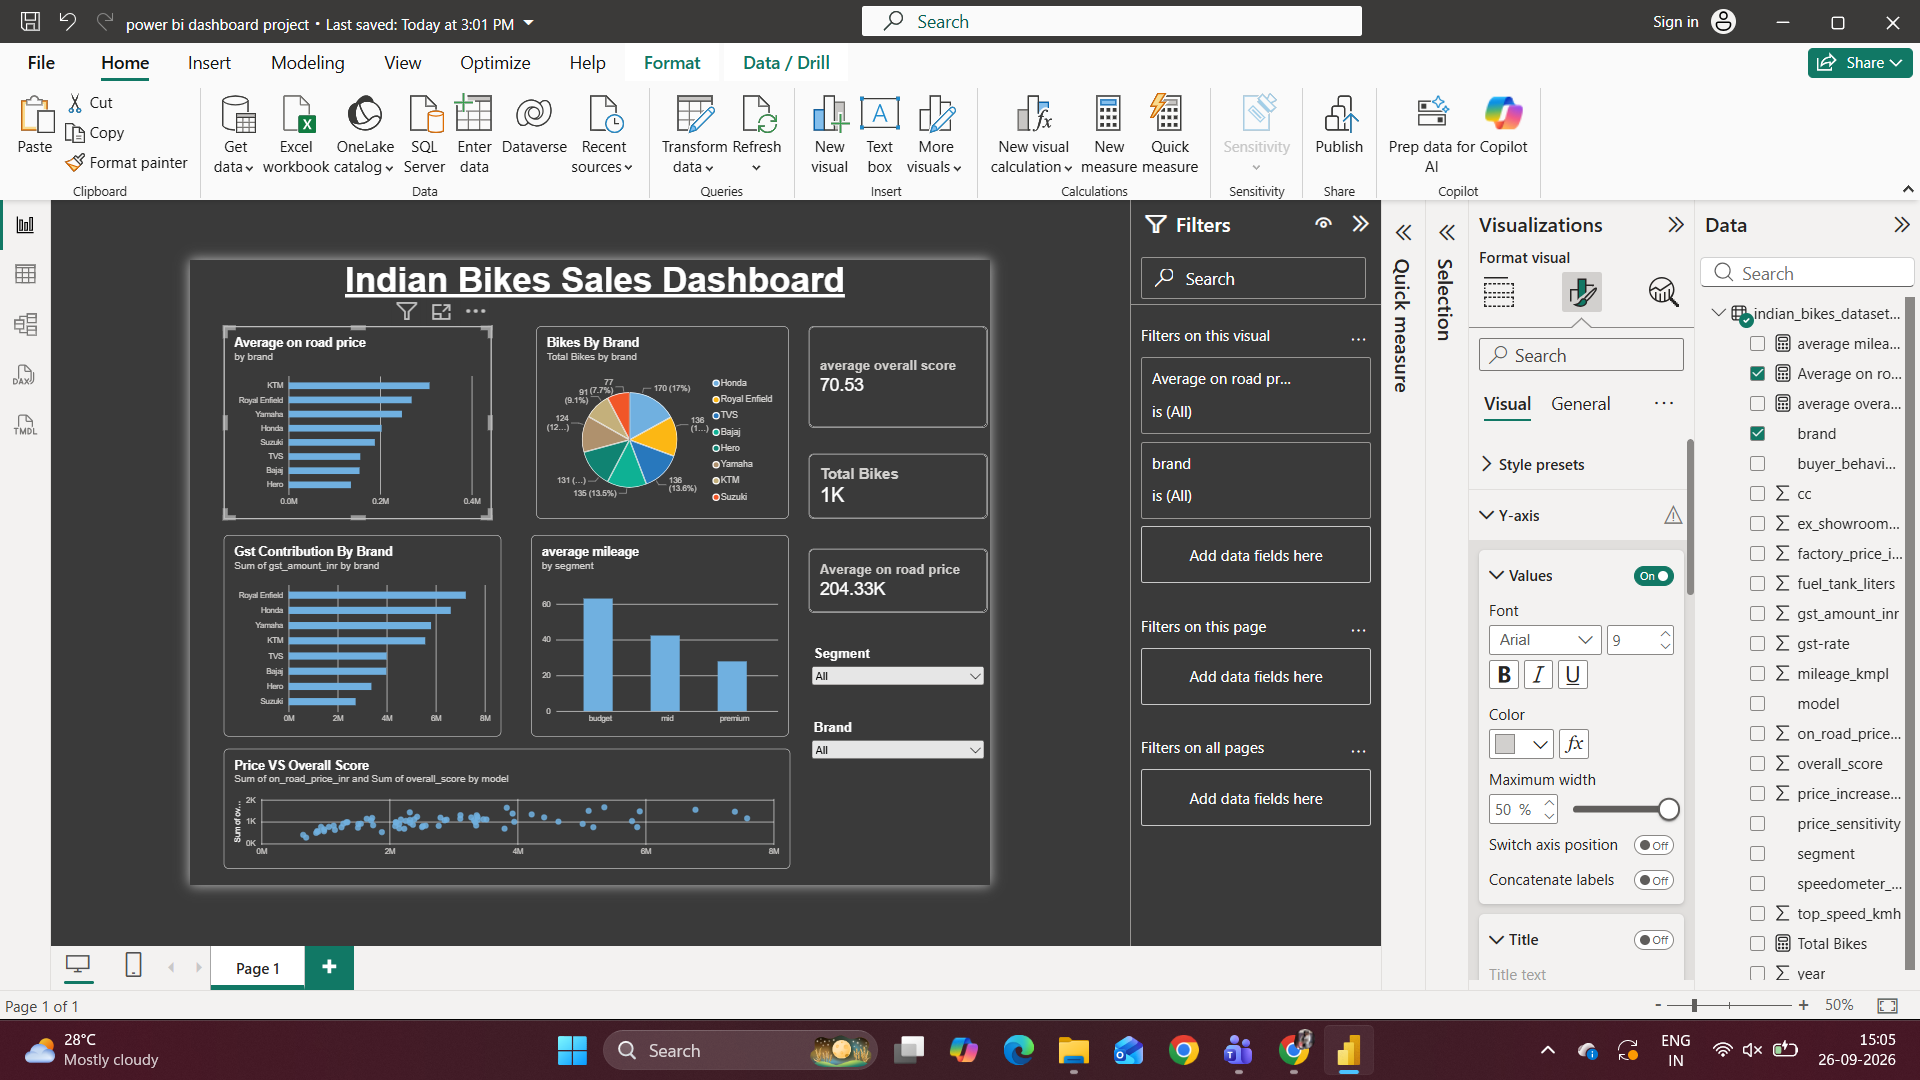

What the dashboard file says about the page in this screenshot:
{"tool":"powerbi","page":{"name":"Page 1","canvas":[1280,1000],"ordinal":0},"visuals":[{"type":"cardVisual","fields":{"Data":["indian_bikes_dataset_1000 (2).Total Bikes"]},"box":[990,310,286,104],"z":0},{"type":"cardVisual","fields":{"Data":["indian_bikes_dataset_1000 (2).Average on road price"]},"box":[990,462,286,102],"z":1000},{"type":"clusteredBarChart","fields":{"Category":["indian_bikes_dataset_1000 (2).brand"],"Y":["indian_bikes_dataset_1000 (2).Average on road price"]},"box":[54,106,428,308],"z":2000},{"type":"pieChart","title":"Bikes By Brand","fields":{"Category":["indian_bikes_dataset_1000 (2).brand"],"Y":["indian_bikes_dataset_1000 (2).Total Bikes"]},"box":[554,106,404,308],"z":3000},{"type":"slicer","fields":{"Values":["indian_bikes_dataset_1000 (2).brand"]},"box":[990,736,286,92],"z":4000},{"type":"textbox","box":[248,0,3172,122],"z":5000},{"type":"scatterChart","title":"Price VS Overall Score","fields":{"Category":["indian_bikes_dataset_1000 (2).model"],"X":["Sum(indian_bikes_dataset_1000 (2).on_road_price_inr)"],"Y":["Sum(indian_bikes_dataset_1000 (2).overall_score)"]},"box":[54,782,906,192],"z":6000},{"type":"cardVisual","fields":{"Data":["indian_bikes_dataset_1000 (2).average overall score"]},"box":[990,106,286,162],"z":7000},{"type":"cardVisual","fields":{"Data":["indian_bikes_dataset_1000 (2).average mileage"]},"box":[1373.6,143,352.3,91.9],"z":8000},{"type":"clusteredColumnChart","fields":{"Category":["indian_bikes_dataset_1000 (2).segment"],"Y":["indian_bikes_dataset_1000 (2).average mileage"]},"box":[546,440,412,322],"z":9000},{"type":"clusteredBarChart","title":"Gst Contribution By Brand","fields":{"Category":["indian_bikes_dataset_1000 (2).brand"],"Y":["Sum(indian_bikes_dataset_1000 (2).gst_amount_inr)"]},"box":[54,440,444,322],"z":10000},{"type":"slicer","fields":{"Values":["indian_bikes_dataset_1000 (2).segment"]},"box":[990,618,286,78],"z":11000}]}

Visuals, with their boxes on the page's 1280x1000 design canvas (x1, y1, x2, y2). These are canvas units, not pixel positions in the 1920x1080 screenshot, which may show the page scaled, cropped or inside an application window:
cardVisual - indian_bikes_dataset_1000 (2).Total Bikes: bbox(990, 310, 1276, 414)
cardVisual - indian_bikes_dataset_1000 (2).Average on road price: bbox(990, 462, 1276, 564)
clusteredBarChart - indian_bikes_dataset_1000 (2).brand x indian_bikes_dataset_1000 (2).Average on road price: bbox(54, 106, 482, 414)
"Bikes By Brand" pieChart: bbox(554, 106, 958, 414)
slicer - indian_bikes_dataset_1000 (2).brand: bbox(990, 736, 1276, 828)
textbox: bbox(248, 0, 3420, 122)
"Price VS Overall Score" scatterChart: bbox(54, 782, 960, 974)
cardVisual - indian_bikes_dataset_1000 (2).average overall score: bbox(990, 106, 1276, 268)
cardVisual - indian_bikes_dataset_1000 (2).average mileage: bbox(1374, 143, 1726, 235)
clusteredColumnChart - indian_bikes_dataset_1000 (2).segment x indian_bikes_dataset_1000 (2).average mileage: bbox(546, 440, 958, 762)
"Gst Contribution By Brand" clusteredBarChart: bbox(54, 440, 498, 762)
slicer - indian_bikes_dataset_1000 (2).segment: bbox(990, 618, 1276, 696)
